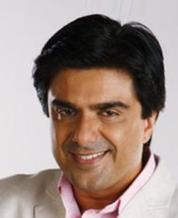face: (50, 99, 126, 170)
